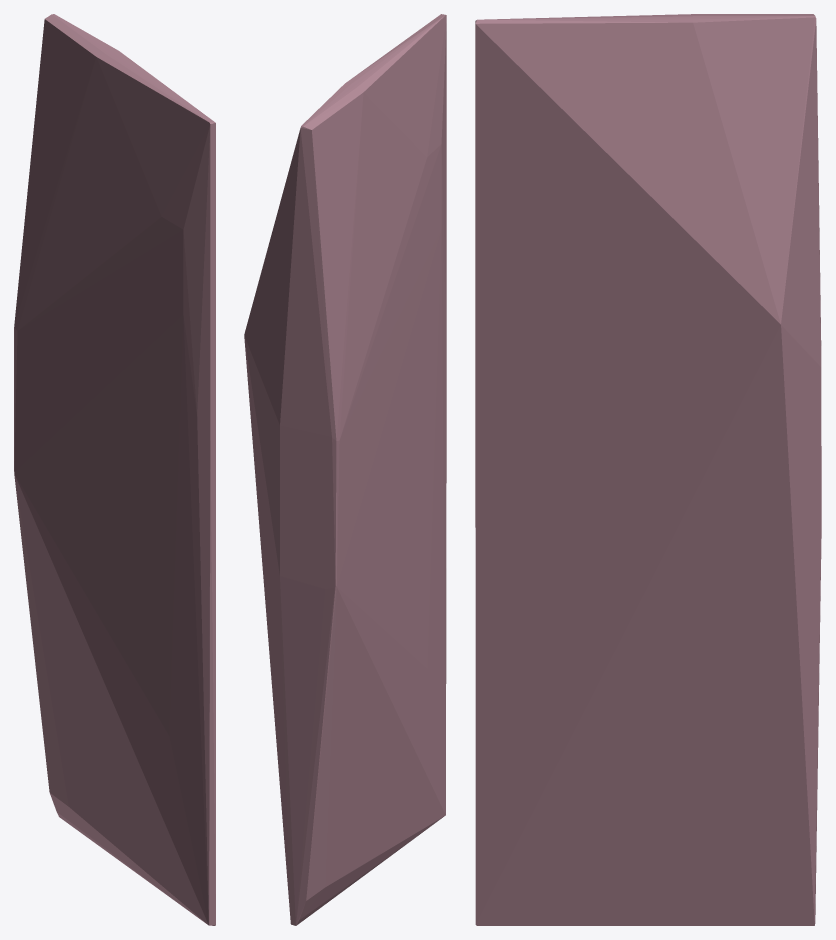
File: panel_control_surgery_room_a01.glb
The picture shows the model from 3 angles, left to right: view 1: azimuth 30°, elevation 25°; view 2: azimuth 150°, elevation 25°; view 3: azimuth 270°, elevation 25°; orthographic projection. The views are drawn at different scales.
Parts seen in each view (by area): view 1: geometry_0; view 2: geometry_0; view 3: geometry_0.
Part boxes in pixels (x1,y1,x2,y2): geometry_0: [14, 14, 215, 925]; geometry_0: [244, 14, 446, 925]; geometry_0: [475, 14, 821, 925].
Size of the model in its own units: 0.0688 by 0.48 by 0.1666.
